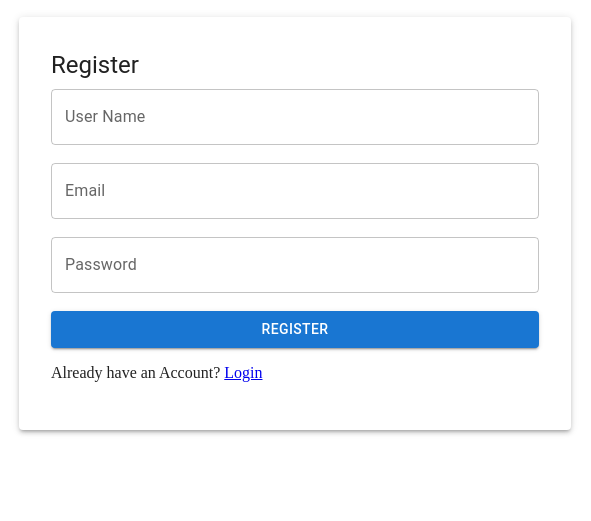
Scenario: Registration Page › should show validation errors when submitting empty form
Click the submit button at coordinates (295, 330), box x1=51 y1=311 x2=539 y2=348
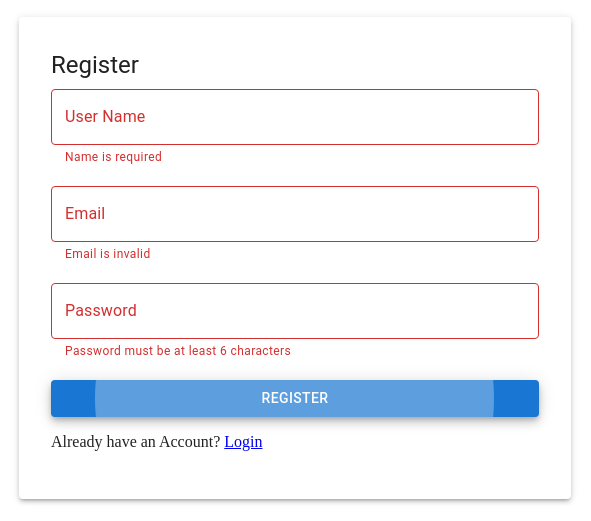
Expected: the text "Name is required" is shown, x1=65 y1=150 x2=162 y2=164
Expected: the text "Email is invalid" is shown, x1=65 y1=247 x2=151 y2=261
Expected: the text "Password must be at least 6 characters" is shown, x1=65 y1=344 x2=291 y2=358
